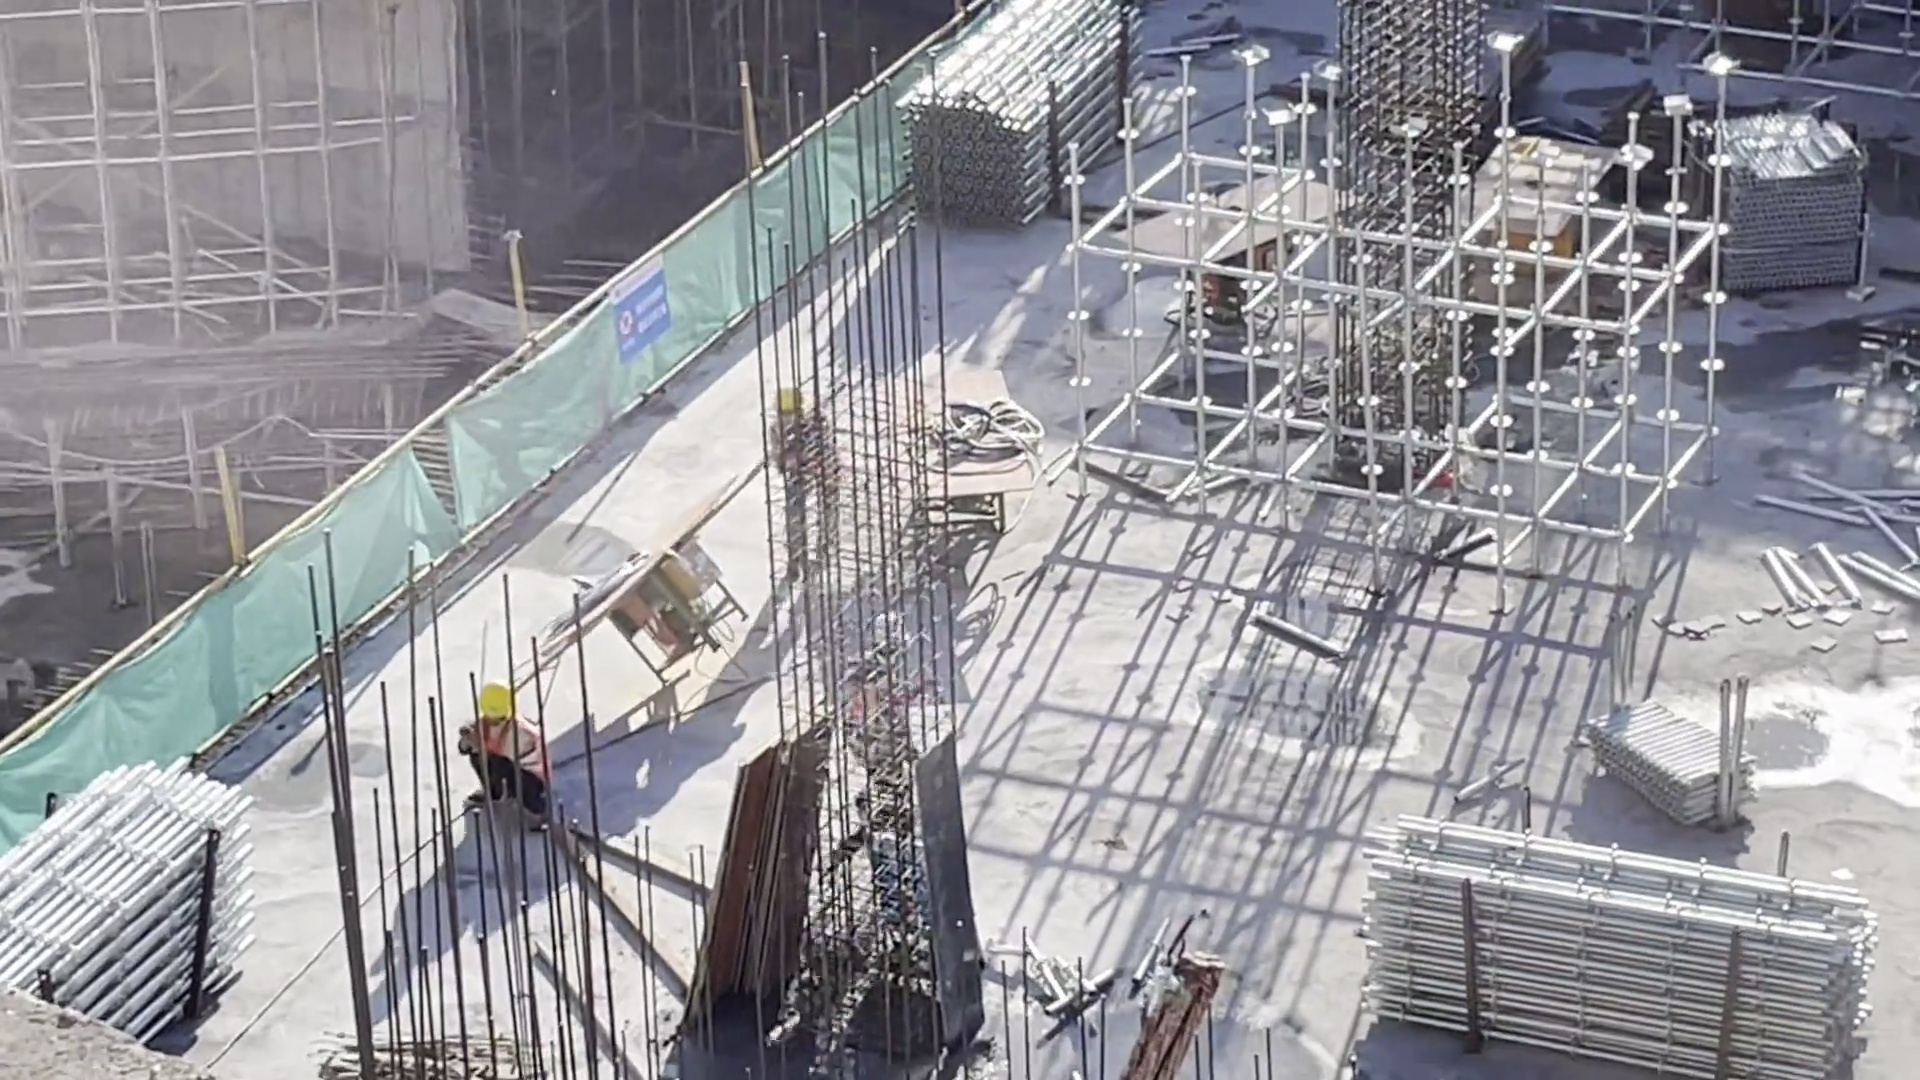board: (707, 723, 807, 1004)
cutter: (533, 461, 777, 678), (1122, 165, 1352, 345), (885, 356, 1056, 567), (1423, 131, 1612, 302)
helmet: (873, 613, 926, 669), (471, 679, 528, 722), (781, 383, 818, 411)
person: (841, 595, 934, 867), (458, 676, 573, 839), (762, 374, 845, 600)
scaffold: (1349, 795, 1915, 1062), (1, 732, 282, 992), (899, 3, 1162, 243), (1676, 99, 1866, 318), (1595, 683, 1756, 860)
slogan: (595, 235, 696, 378)
vest: (838, 674, 915, 773), (470, 718, 560, 779)
